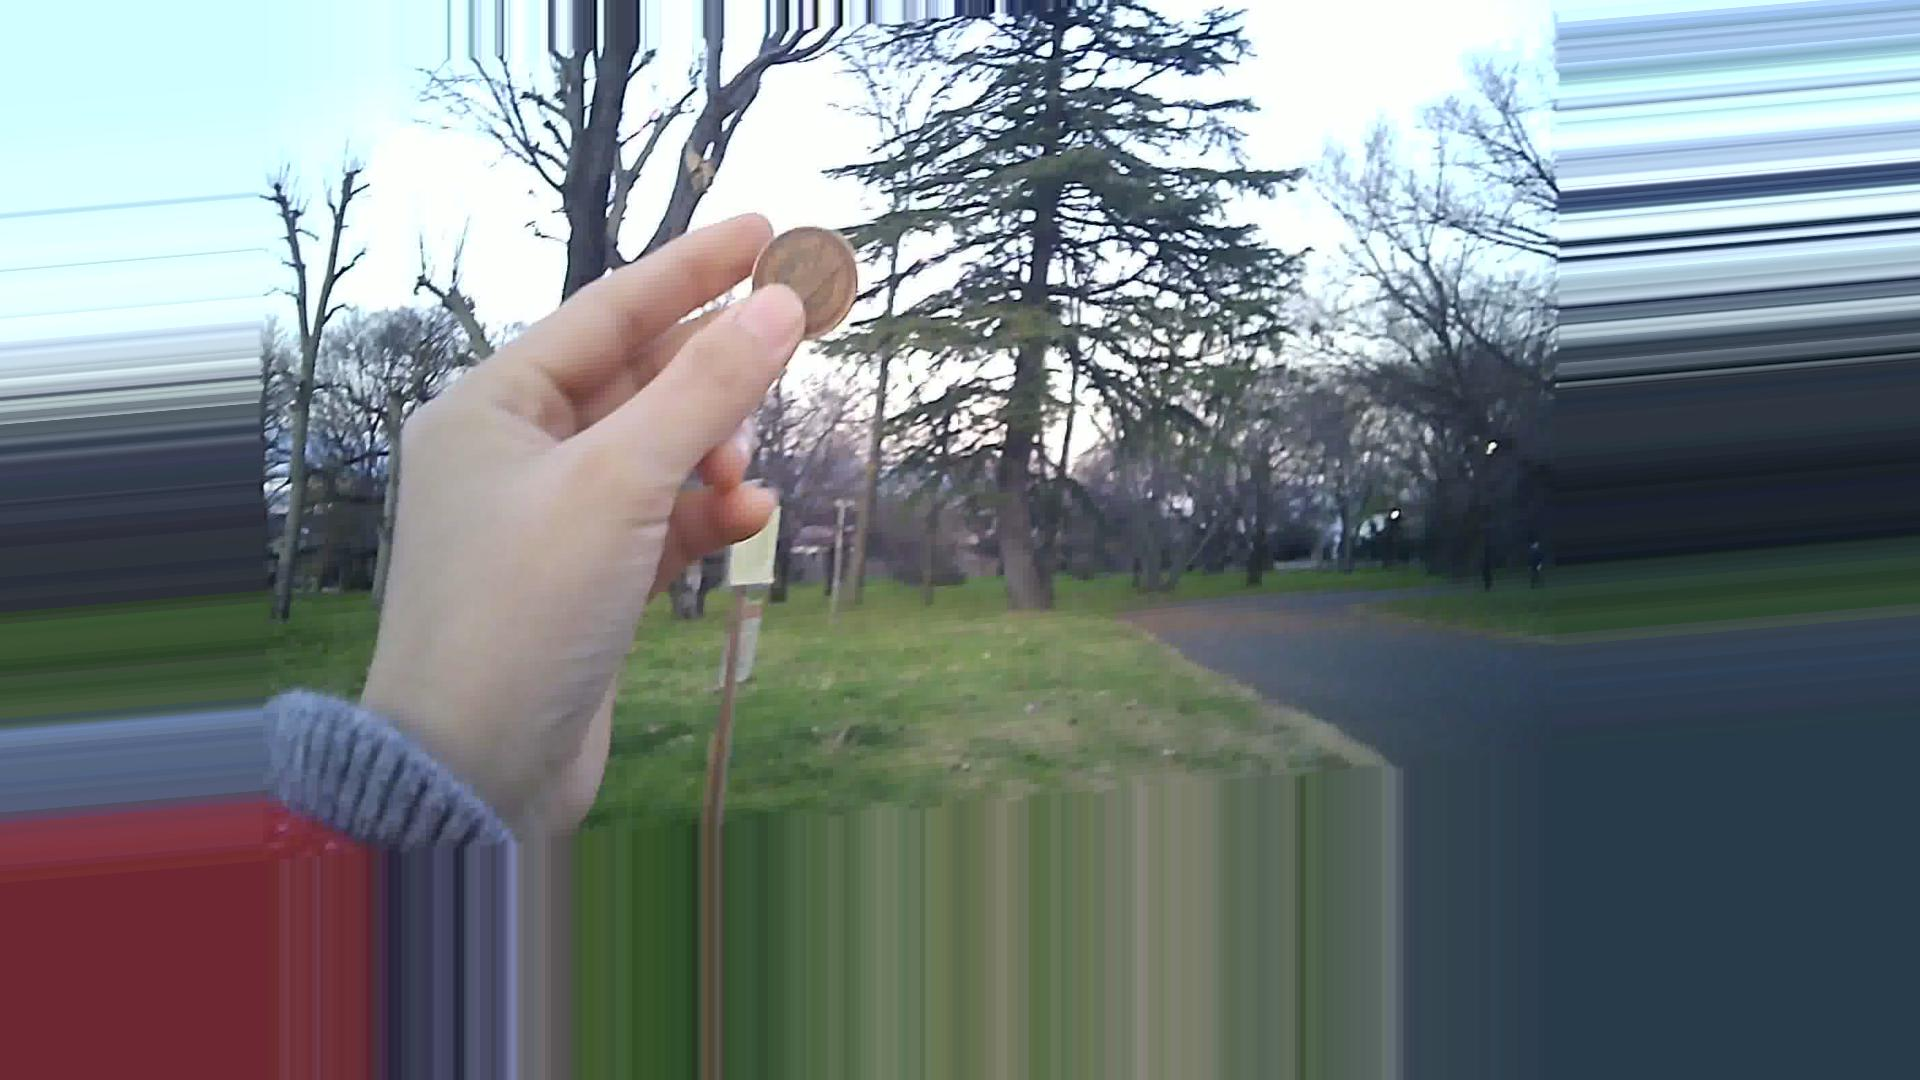10 Yen: (752, 222, 872, 335)
